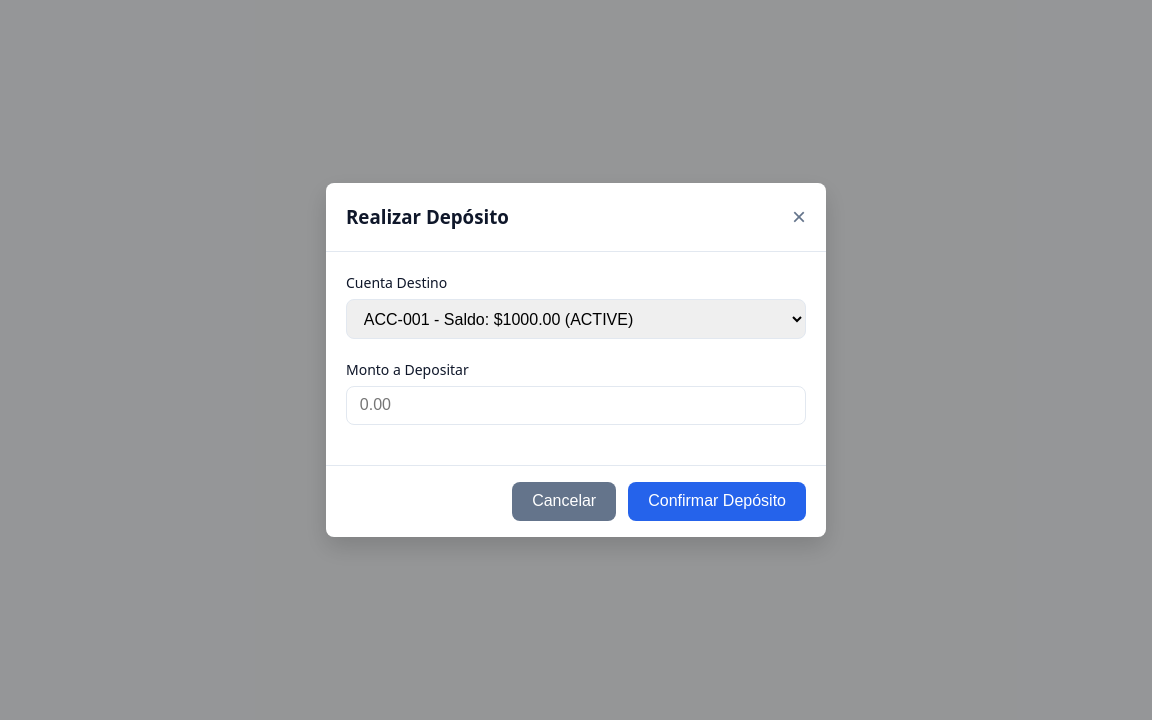
it: DepositFormModal › valida monto no válido y muestra error
Click the button "Confirmar Depósito" at (717, 501), box x1=628 y1=482 x2=806 y2=521
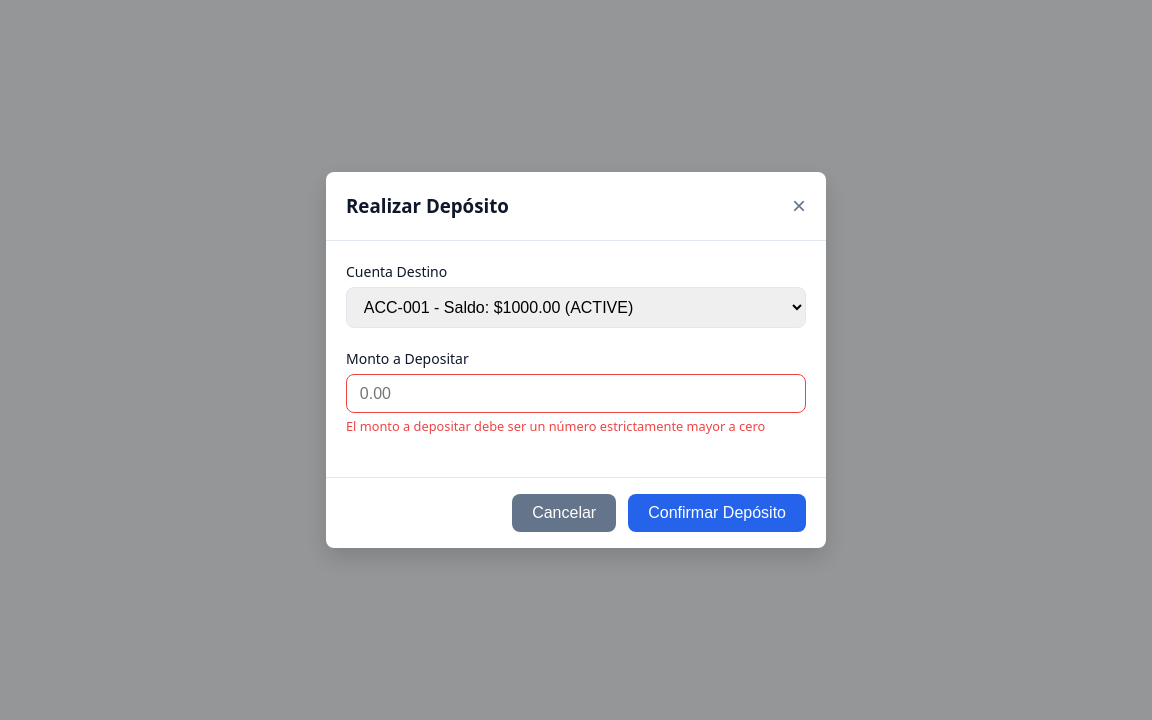
Check: the text "El monto a depositar debe ser un número estrictamente mayor a cero" is shown, box x1=346 y1=417 x2=806 y2=436
